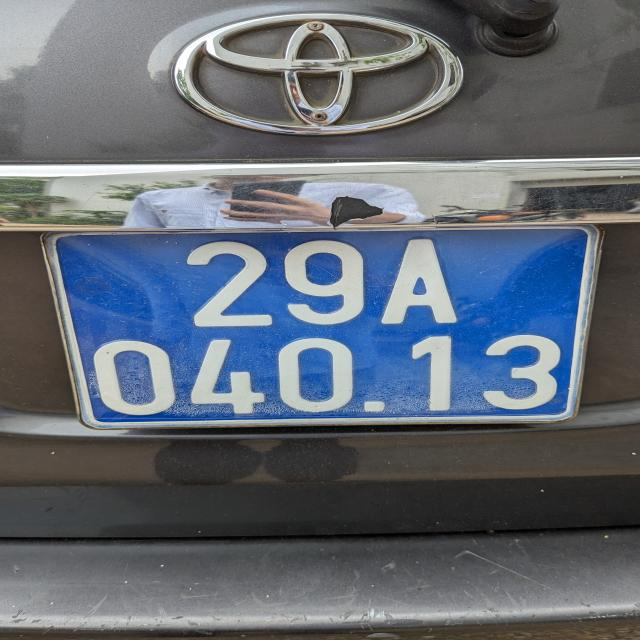License: (43, 223, 602, 430)
